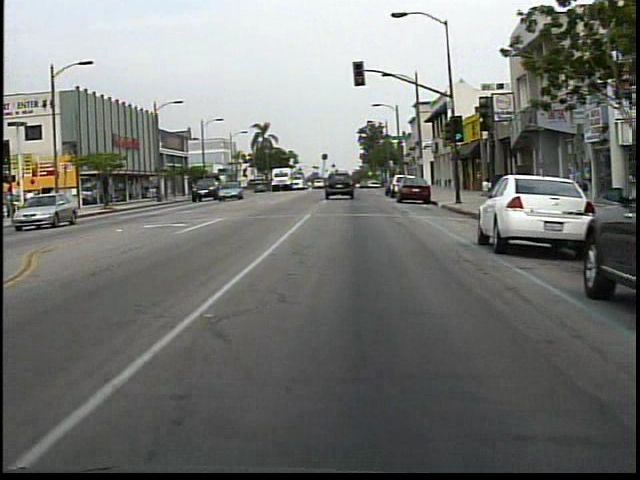person: (27, 186, 37, 207)
